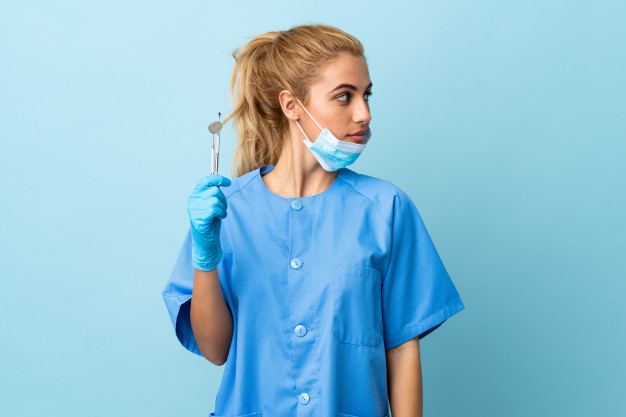mask_weared_incorrect: (268, 62, 376, 179)
